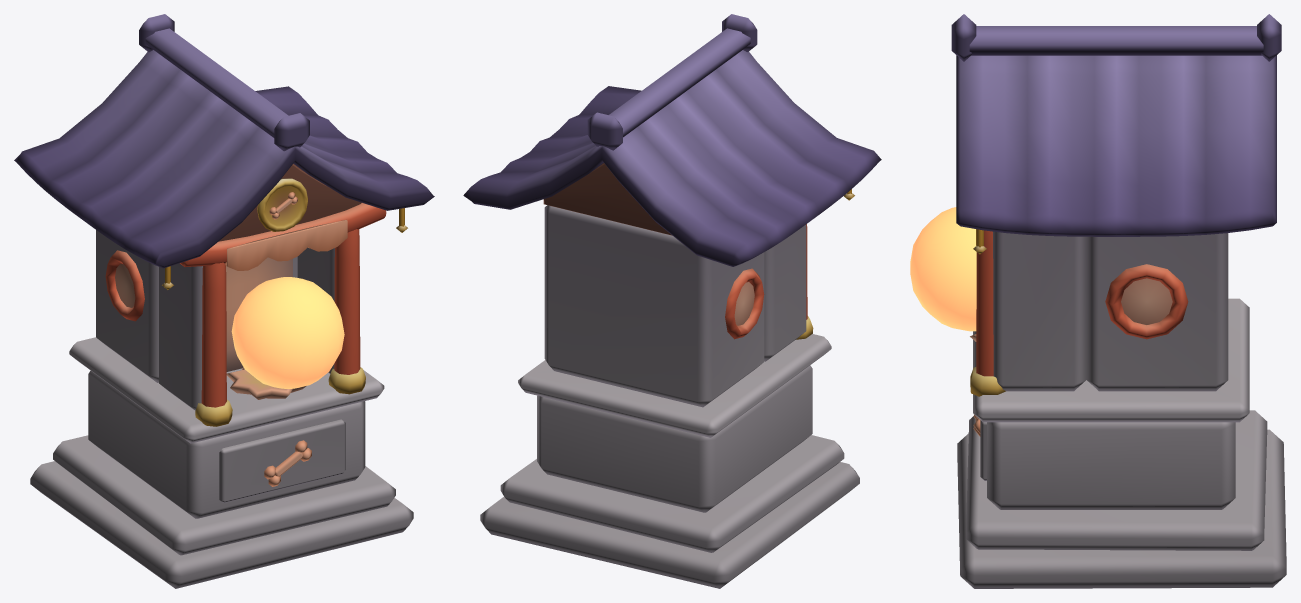
The model's file is shrine-snack.glb.
3 views of the same model, side by side, from view 1: azimuth 30°, elevation 25°; view 2: azimuth 150°, elevation 25°; view 3: azimuth 270°, elevation 25° (orthographic). The views are drawn at different scales.
Visible parts, largest first — view 1: base, orb; view 2: base; view 3: base, orb.
Boxes of the visible parts, x1,y1,x2,y2 form: base: (14,14,434,588); orb: (231,277,344,388); base: (463,14,881,588); base: (951,14,1286,588); orb: (910,207,976,331).
Size of the model in its own units: 1.02 by 1.57 by 1.06.
